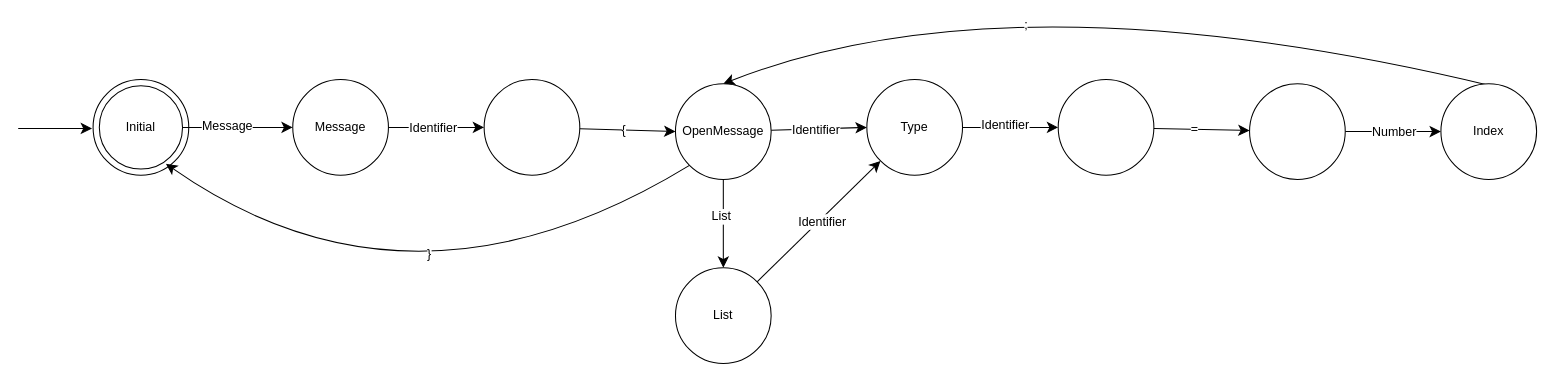
This 1555x382 diagram has some shape labels left out. The box of each missing label's shape, as (x1, y1, x2, y2) in pixels:
Equals: (1249, 83, 1345, 179)
FieldName: (1057, 79, 1154, 175)
Name: (483, 79, 580, 175)
